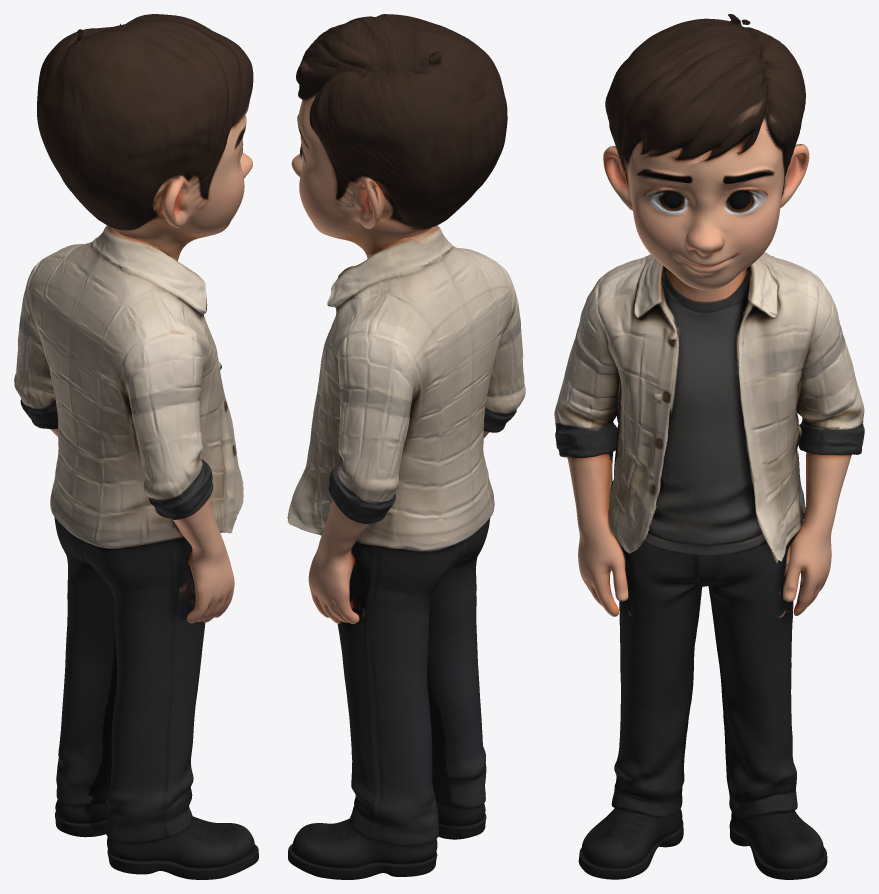
File: Ayush.glb
3 views of the same model, side by side, from view 1: azimuth 30°, elevation 25°; view 2: azimuth 150°, elevation 25°; view 3: azimuth 270°, elevation 25° (orthographic).
Parts seen in each view (by area): view 1: tripo_node_8ab1df70-79d8-42e5-bf2f-32a0d91763e0; view 2: tripo_node_8ab1df70-79d8-42e5-bf2f-32a0d91763e0; view 3: tripo_node_8ab1df70-79d8-42e5-bf2f-32a0d91763e0.
Boxes of the visible parts, x1,y1,x2,y2 form: tripo_node_8ab1df70-79d8-42e5-bf2f-32a0d91763e0: (14,14,258,879); tripo_node_8ab1df70-79d8-42e5-bf2f-32a0d91763e0: (287,14,525,879); tripo_node_8ab1df70-79d8-42e5-bf2f-32a0d91763e0: (554,14,864,879).
Bounding box in the file's own units: 0.2575 × 1 × 0.3439.
Materials: 1 (1 with a texture image).
